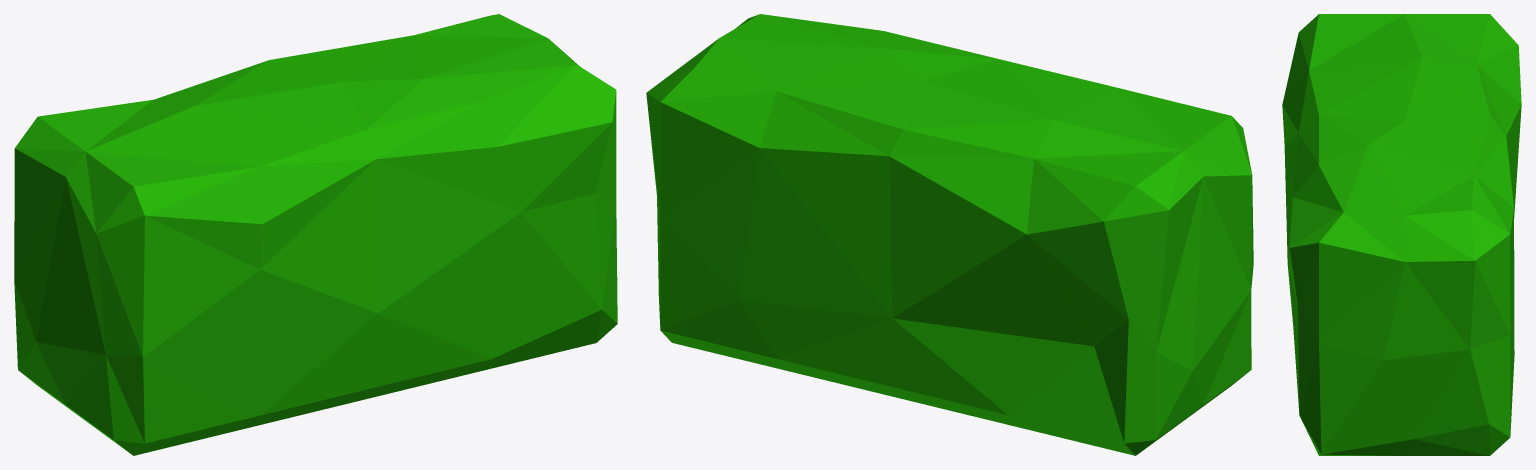
File: Hedge_Straight_Small.fbx
3 views of the same model, side by side, from view 1: azimuth 30°, elevation 25°; view 2: azimuth 150°, elevation 25°; view 3: azimuth 270°, elevation 25° (orthographic). The views are drawn at different scales.
Visible parts, largest first — view 1: Container; view 2: Container; view 3: Container.
Part boxes in pixels (box(x1,y1,x2,y2)): Container: box(14, 14, 617, 455); Container: box(646, 14, 1253, 455); Container: box(1282, 14, 1521, 455).
Bounding box in the file's own units: 323 × 163 × 142.
